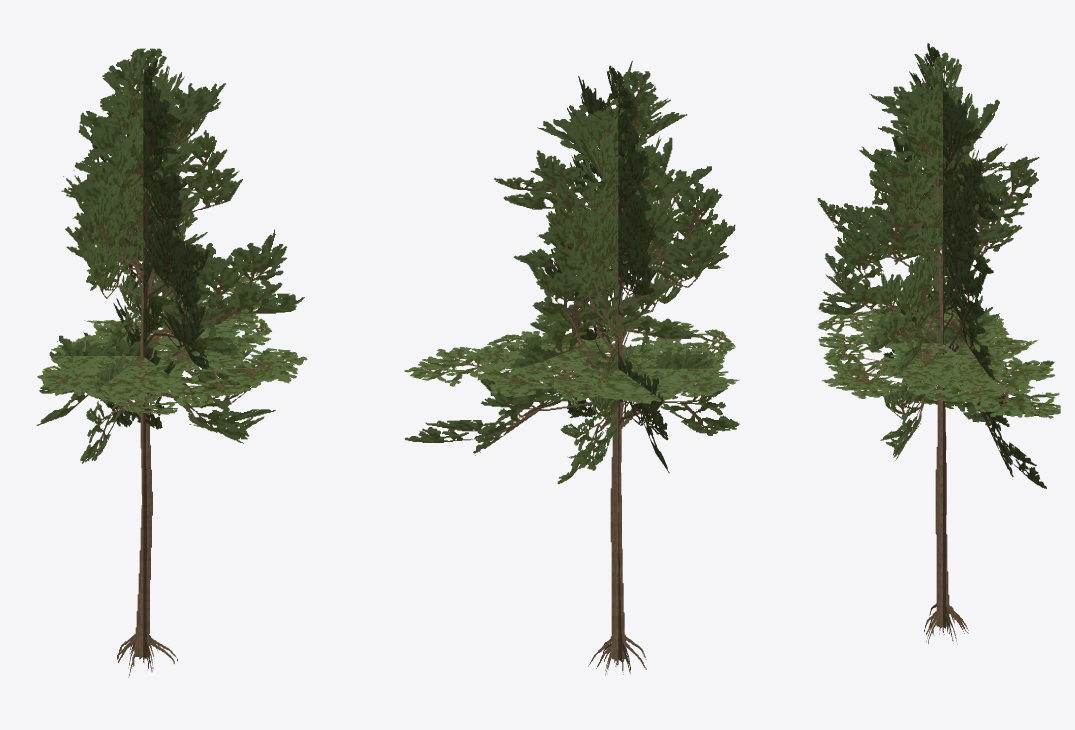
3 views of the same model, side by side, from view 1: azimuth 30°, elevation 25°; view 2: azimuth 150°, elevation 25°; view 3: azimuth 270°, elevation 25° (orthographic). The views are drawn at different scales.
Visible parts, largest first — view 1: Pine_medium_1_Billboard_LOD3_Pine_medium_1_Billboard_Mat_0; view 2: Pine_medium_1_Billboard_LOD3_Pine_medium_1_Billboard_Mat_0; view 3: Pine_medium_1_Billboard_LOD3_Pine_medium_1_Billboard_Mat_0.
Part boxes in pixels (left/top/right/bottom): Pine_medium_1_Billboard_LOD3_Pine_medium_1_Billboard_Mat_0: left=36, top=48, right=307, bottom=677; Pine_medium_1_Billboard_LOD3_Pine_medium_1_Billboard_Mat_0: left=404, top=60, right=740, bottom=675; Pine_medium_1_Billboard_LOD3_Pine_medium_1_Billboard_Mat_0: left=817, top=43, right=1060, bottom=643.
Bounding box in the file's own units: 6.38 × 13.79 × 5.24.
